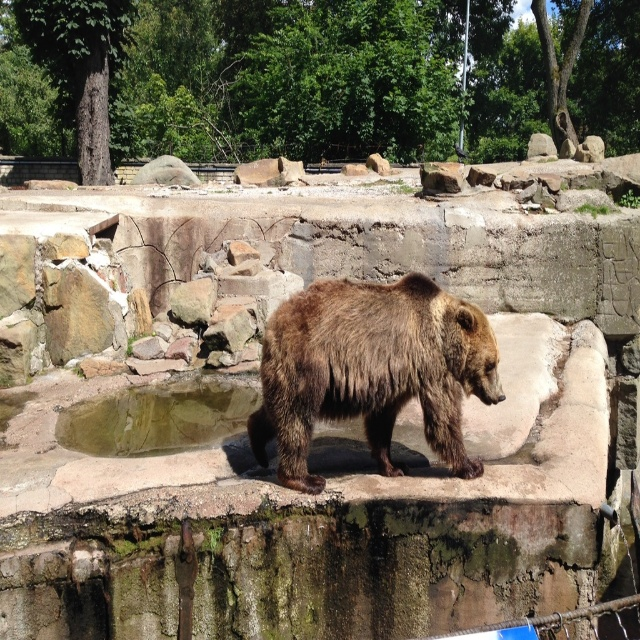Brown bear: (245, 269, 507, 499)
